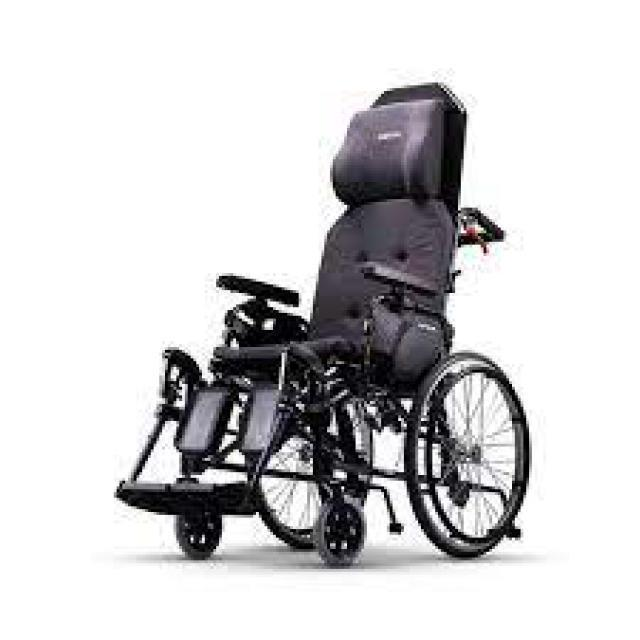wheelchairs: (120, 82, 532, 561)
